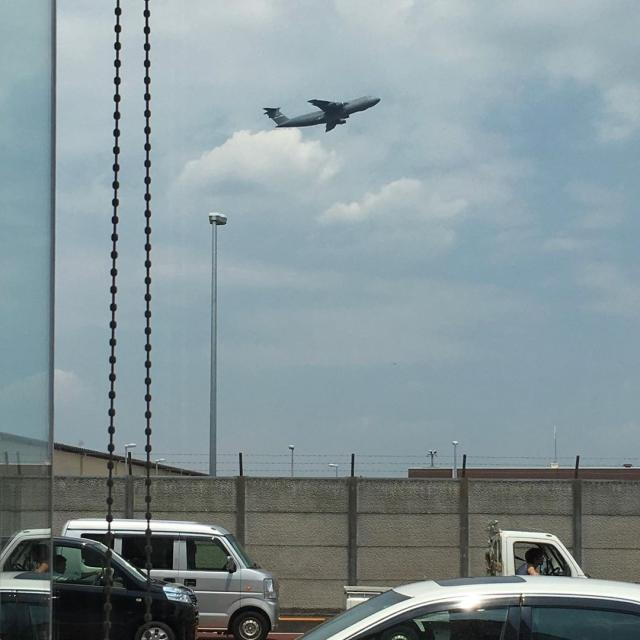MIL_Plane: (284, 90, 359, 129)
